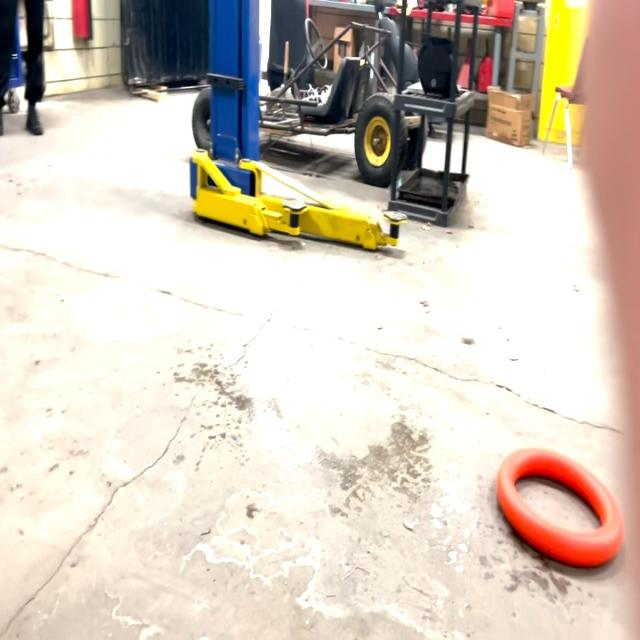note: (494, 433, 625, 565)
